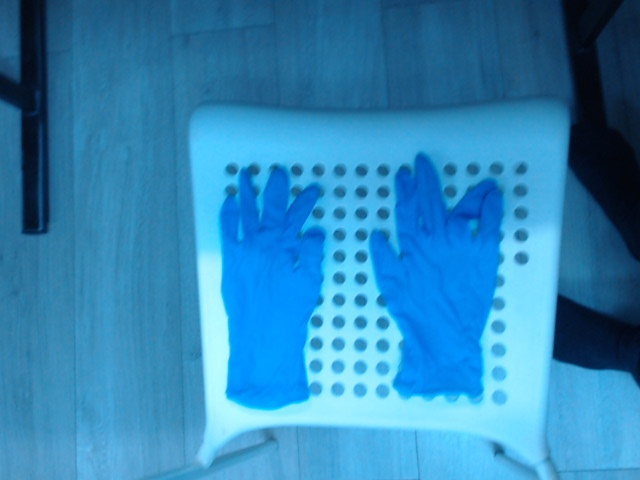medical_glove: (368, 154, 501, 399), (219, 168, 323, 410)
